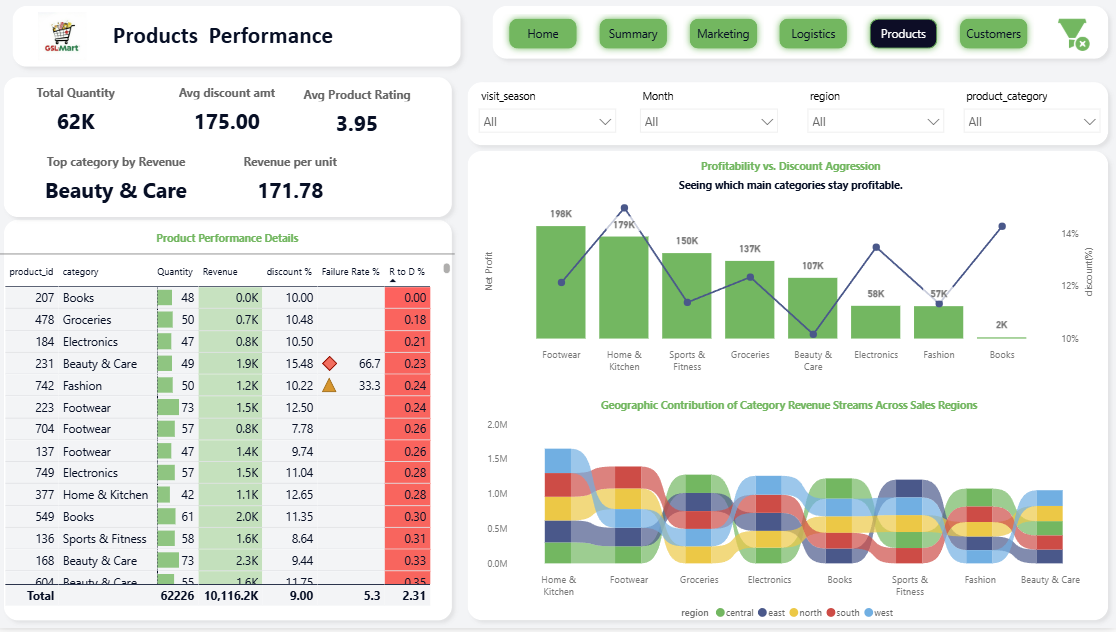

The dashboard page shown, as its layout file describes it:
{"tool":"powerbi","page":{"name":"Products","canvas":[1280,720],"ordinal":4},"visuals":[{"type":"shape","box":[0,244.2,530.1,476.1],"z":0},{"type":"shape","box":[530,87.1,750,90],"z":1000},{"type":"shape","box":[530,165.7,750,554.3],"z":2000},{"type":"shape","box":[0,81,530.1,177.9],"z":3000},{"type":"shape","box":[10,0,530,87.5],"z":4000},{"type":"cardVisual","title":"Gross Revenue","fields":{"Data":["Base measures.Revenue per unit"]},"box":[206.1,155.8,261.4,101.8],"z":5000},{"type":"cardVisual","fields":{"Data":["Base measures.Total Quantity"]},"box":[8.6,81,165.6,93.3],"z":6000},{"type":"shape","box":[558.5,0,721.5,78.4],"z":7000},{"type":"cardVisual","fields":{"Data":["Avg(Fact_Sales.discount_amount)"]},"box":[174.2,73.6,179.1,106.7],"z":8000},{"type":"cardVisual","title":"Avg Product Rating","fields":{"Data":["Product Metrics.Avg Product Rating"]},"box":[309.2,82.2,208.6,92],"z":9000},{"type":"cardVisual","fields":{"Data":["Min(Dim_Products.product_category)"]},"box":[27.1,157.1,220,98.6],"z":10000},{"type":"slicer","fields":{"Values":["Fact_Sales.visit_season"]},"box":[541.4,98.6,177.1,70],"z":11000},{"type":"slicer","fields":{"Values":["Dim_Calendar.Date.Variation.Date Hierarchy.Month"]},"box":[726.4,98.2,177.9,69.9],"z":12000},{"type":"slicer","fields":{"Values":["Dim_Geography.region"]},"box":[916.6,98.2,176.7,69.9],"z":13000},{"type":"lineClusteredColumnComboChart","title":"Profitability vs. Discount Aggression","fields":{"Category":["Dim_Products.product_category"],"Y2":["Avg(Fact_Sales.discount_percent)"],"Y":["Base measures.Net Profit"]},"box":[554.6,184.1,708,251.5],"z":14000},{"type":"tableEx","title":"Product Performance Details","fields":{"Values":["Fact_Sales.product_id","Dim_Products.product_category","Base measures.Total Quantity","Base measures.Gross Revenue","Avg(Fact_Sales.discount_percent)","Logistics.Delivery Failure Rate %","Base measures.Revenue to Discount"]},"box":[4.3,265.7,520,432.9],"z":15000},{"type":"ribbonChart","title":"Geographic Contribution of Category Revenue Streams Across Sales Regions","fields":{"Y":["Sum(Fact_Sales.revenue)"],"Category":["Dim_Products.product_category"],"Series":["Fact_delivery.region"]},"box":[554.3,457.1,704.3,262.9],"z":16000},{"type":"slicer","fields":{"Values":["Dim_Products.product_category"]},"box":[1095.7,98.2,176.7,69.9],"z":17000},{"type":"textbox","box":[111.2,21.2,296.2,42.5],"z":18000},{"type":"pageNavigator","box":[578.8,15,612.5,50],"z":19000},{"type":"image","box":[1197.5,15,65,50],"z":20000},{"type":"image","box":[12.5,11.2,125,65],"z":21000}]}

Visuals, with their boxes in screenshot pixels (x1, y1, x2, y2), scaled from the page's 1280x720 canvas onto the 1116x632 screenshot:
shape: crop(0, 214, 462, 631)
shape: crop(462, 76, 1115, 155)
shape: crop(462, 145, 1115, 631)
shape: crop(0, 71, 462, 227)
shape: crop(9, 0, 471, 77)
"Gross Revenue" cardVisual: crop(180, 137, 408, 226)
cardVisual - Base measures.Total Quantity: crop(7, 71, 152, 153)
shape: crop(487, 0, 1115, 69)
cardVisual - Avg(Fact_Sales.discount_amount): crop(152, 65, 308, 158)
"Avg Product Rating" cardVisual: crop(270, 72, 451, 153)
cardVisual - Min(Dim_Products.product_category): crop(24, 138, 215, 224)
slicer - Fact_Sales.visit_season: crop(472, 87, 626, 148)
slicer - Dim_Calendar.Date.Variation.Date Hierarchy.Month: crop(633, 86, 788, 148)
slicer - Dim_Geography.region: crop(799, 86, 953, 148)
"Profitability vs. Discount Aggression" lineClusteredColumnComboChart: crop(484, 162, 1101, 382)
"Product Performance Details" tableEx: crop(4, 233, 457, 613)
"Geographic Contribution of Category Revenue Streams Across Sales Regions" ribbonChart: crop(483, 401, 1097, 631)
slicer - Dim_Products.product_category: crop(955, 86, 1109, 148)
textbox: crop(97, 19, 355, 56)
pageNavigator: crop(505, 13, 1039, 57)
image: crop(1044, 13, 1101, 57)
image: crop(11, 10, 120, 67)
